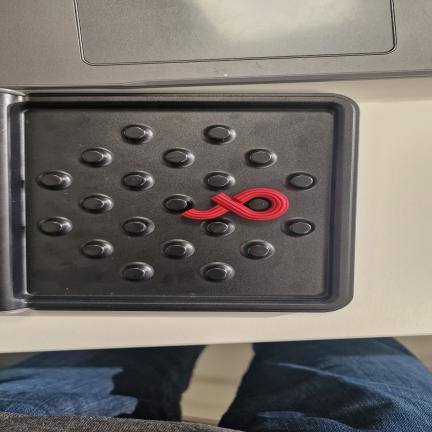J_DarkRed: (182, 188, 289, 220)
board: (0, 93, 358, 312)
hinge: (0, 90, 29, 313)
pin: (241, 240, 273, 260), (38, 171, 71, 190), (121, 262, 154, 281), (163, 148, 194, 168), (202, 263, 234, 282), (162, 240, 194, 259), (121, 172, 154, 190), (81, 148, 112, 167), (81, 195, 113, 213), (204, 172, 234, 191), (204, 126, 234, 144), (82, 240, 112, 258), (247, 150, 275, 167), (124, 126, 151, 143), (166, 197, 192, 213), (285, 221, 312, 235), (245, 197, 270, 211), (41, 220, 66, 234), (124, 222, 149, 235), (292, 175, 312, 187), (207, 222, 228, 233)
